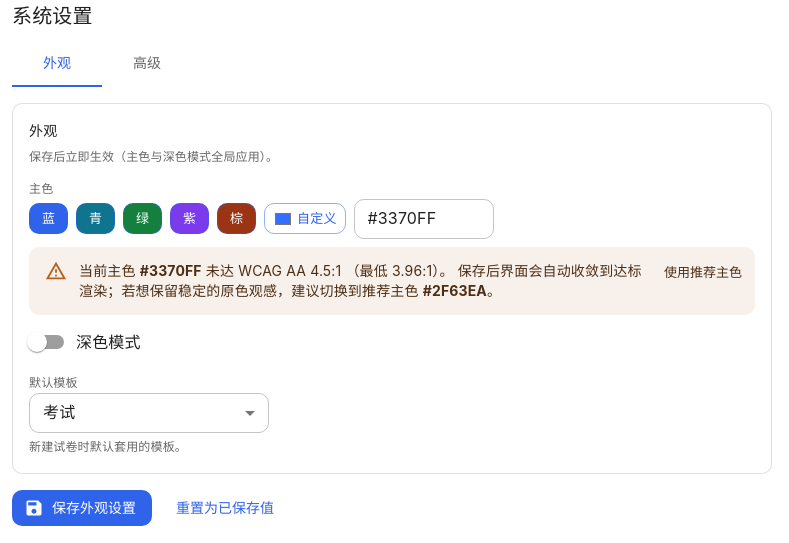
Test case: SettingsPage 页面级集成 › 主色原色不达标 → 显式标注 + 一键切推荐主色；达标 → 不标注
expect the message shows "未达 WCAG AA 4.5:1": met, box x1=202 y1=262 x2=392 y2=279
expect the message shows "3.96:1": met, box x1=29 y1=247 x2=755 y2=315
Click the button "使用推荐主色" at coordinates (703, 272), box x1=659 y1=257 x2=747 y2=288
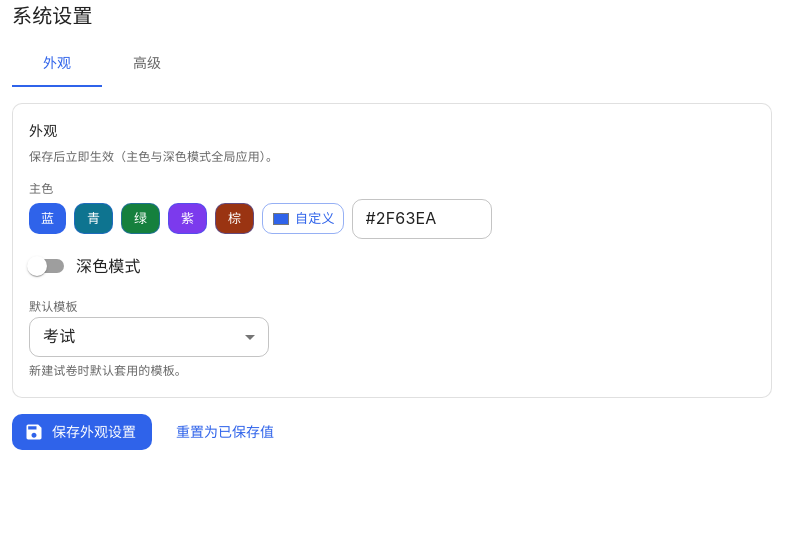
expect the field showing "#2F63EA" is shown: met, box x1=352 y1=199 x2=492 y2=239
expect the text "未达 WCAG AA" is gone: met
